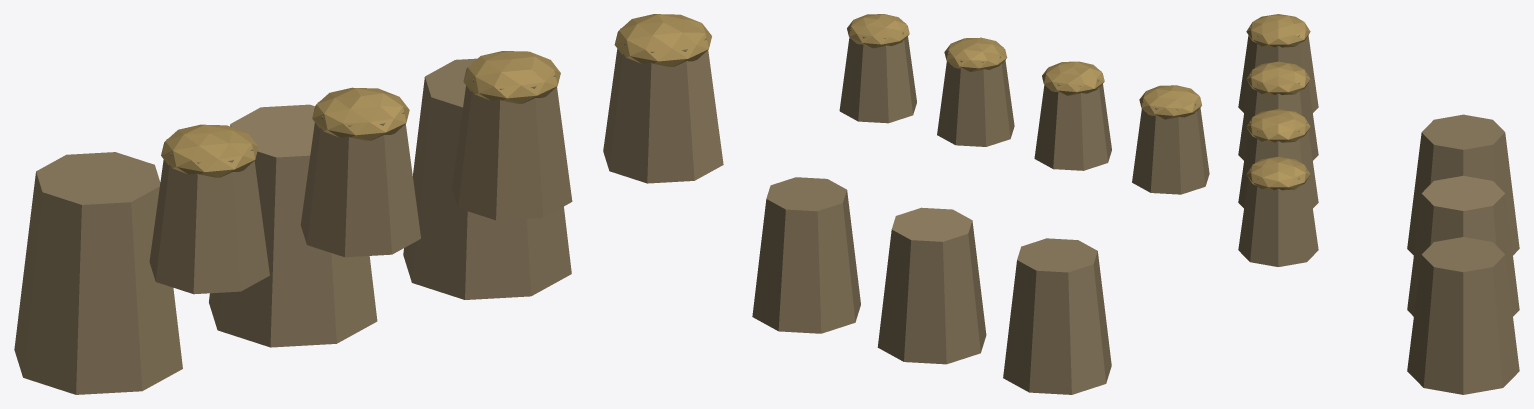
File: village_goods_grain.glb
The picture shows the model from 3 angles, left to right: view 1: azimuth 30°, elevation 25°; view 2: azimuth 150°, elevation 25°; view 3: azimuth 270°, elevation 25°; orthographic projection. The views are drawn at different scales.
Visible parts, largest first — view 1: village_goods_grain; view 2: village_goods_grain; view 3: village_goods_grain.
Boxes of the visible parts, bbox=[...] form: village_goods_grain: bbox=[14, 14, 723, 394]; village_goods_grain: bbox=[752, 14, 1209, 394]; village_goods_grain: bbox=[1238, 14, 1519, 394].
Size of the model in its own units: 2.6 by 1.5 by 1.75.
